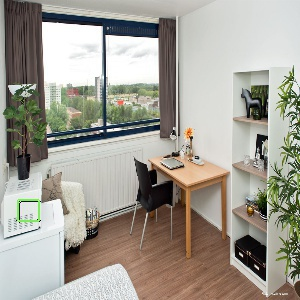square: (16, 197, 43, 224)
